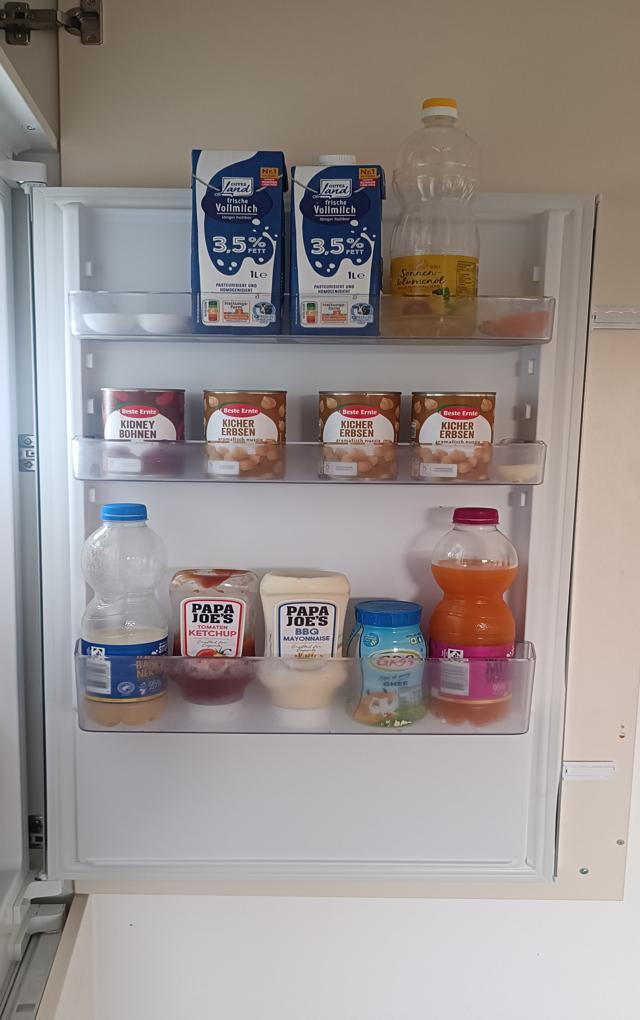bananajuice: (80, 501, 172, 723)
chickpeas: (408, 390, 495, 483), (202, 388, 287, 483), (318, 389, 401, 480)
ghee: (347, 599, 429, 731)
kidneybeans: (101, 385, 186, 483)
mayoniasie: (259, 569, 351, 731)
milk: (188, 144, 287, 343), (294, 150, 387, 334)
oil: (392, 95, 488, 337)
orangejuice: (431, 504, 517, 726)
tomatoketchup: (167, 569, 260, 726)
